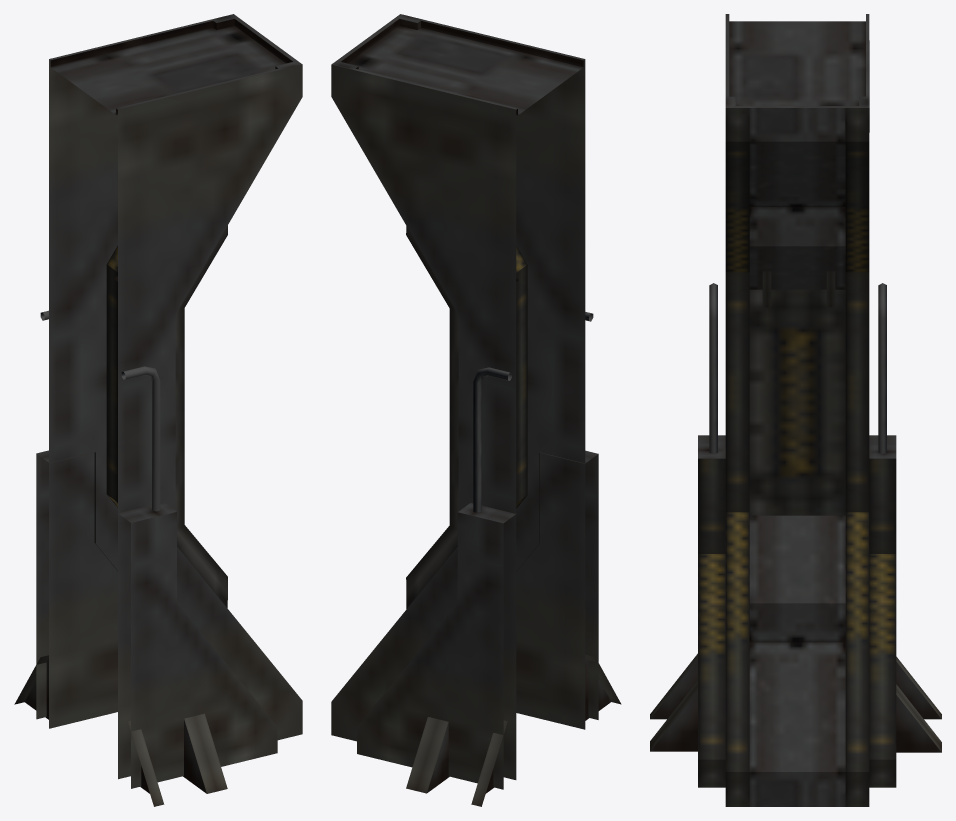
Rendered from Column_02.FBX.
3 views of the same model, side by side, from view 1: azimuth 30°, elevation 25°; view 2: azimuth 150°, elevation 25°; view 3: azimuth 270°, elevation 25° (orthographic). The views are drawn at different scales.
Parts seen in each view (by area): view 1: Column_02; view 2: Column_02; view 3: Column_02.
Part boxes in pixels (<box>): Column_02: <box>14,14,302,806</box>; Column_02: <box>331,14,621,806</box>; Column_02: <box>650,14,941,806</box>.
Size of the model in its own units: 86.61 by 301 by 113.
